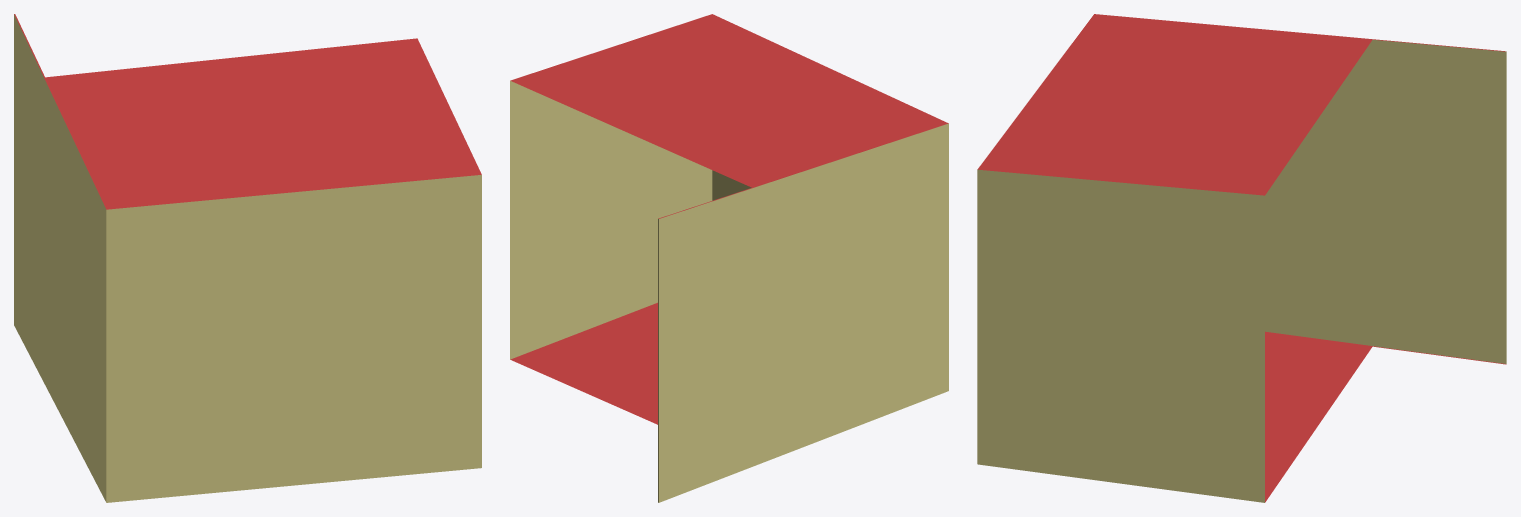
3 renders of one model, left to right at view 1: azimuth 30°, elevation 25°; view 2: azimuth 150°, elevation 25°; view 3: azimuth 270°, elevation 25°, orthographic. The views are drawn at different scales.
Size of the model in its own units: 7.69 by 8.85 by 5.77.
